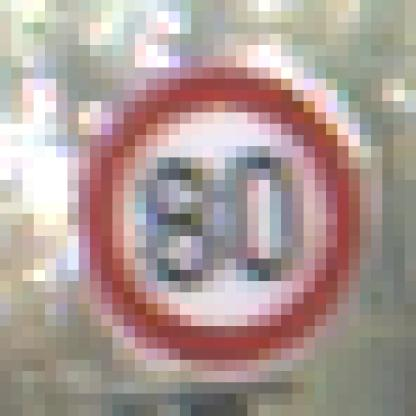Speed Limit 80: (94, 81, 355, 361)
